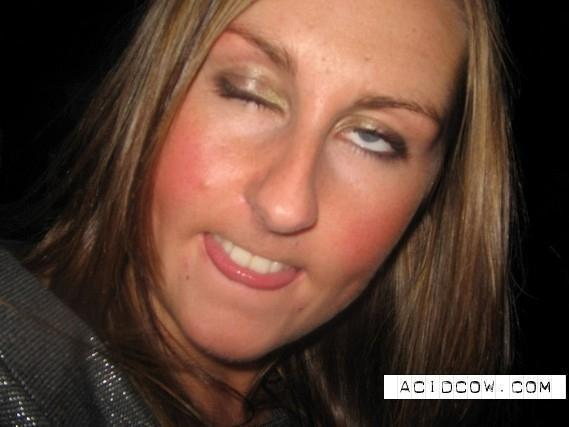Drunk: (169, 2, 430, 349)
